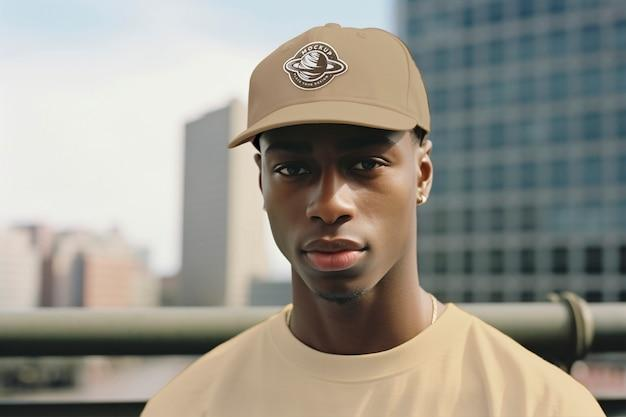cap: (224, 24, 437, 156)
